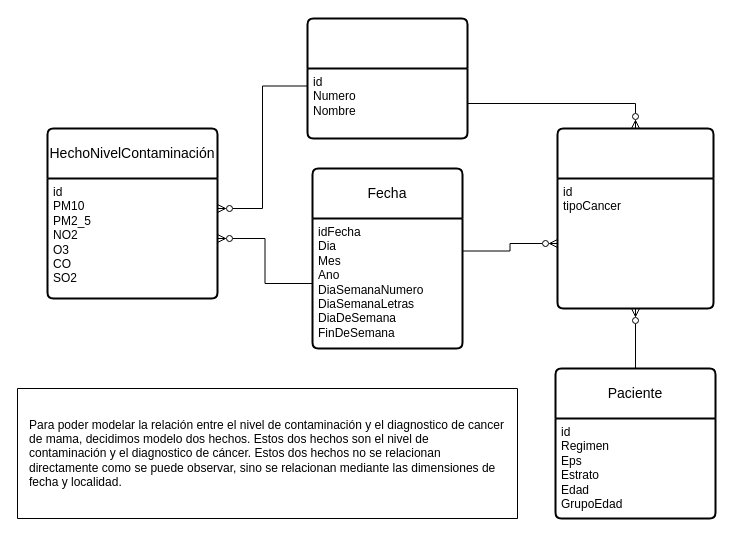
Some shapes in this 734 by 536 pixel diagram are drawn without their labels. Each missing label, with the box of its shape:
HechoDiagnistico: (556, 127, 714, 309)
Localidad: (306, 17, 468, 139)
